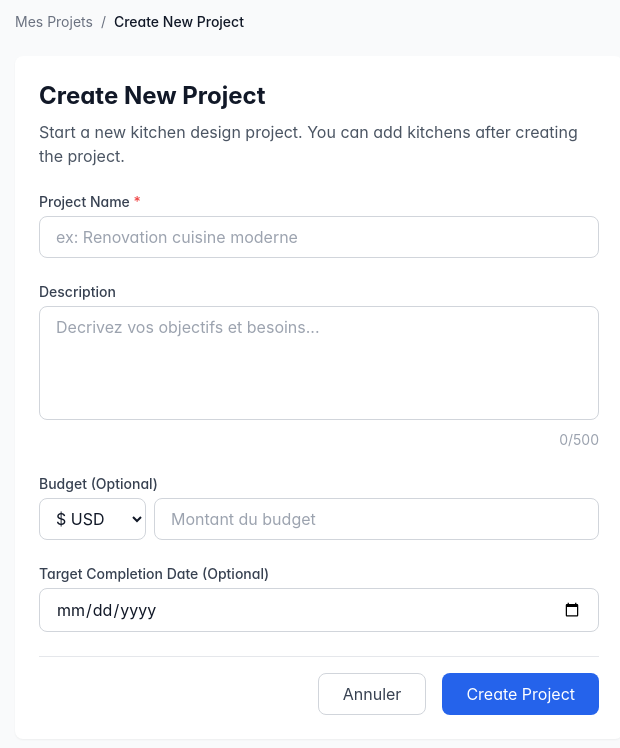
Scenario: CreateProject › Form Validation › should show error when name is too short
Type "AB" into the field labelled "Project Name *".
click(319, 237); type("AB")  # box [39, 216, 599, 258]
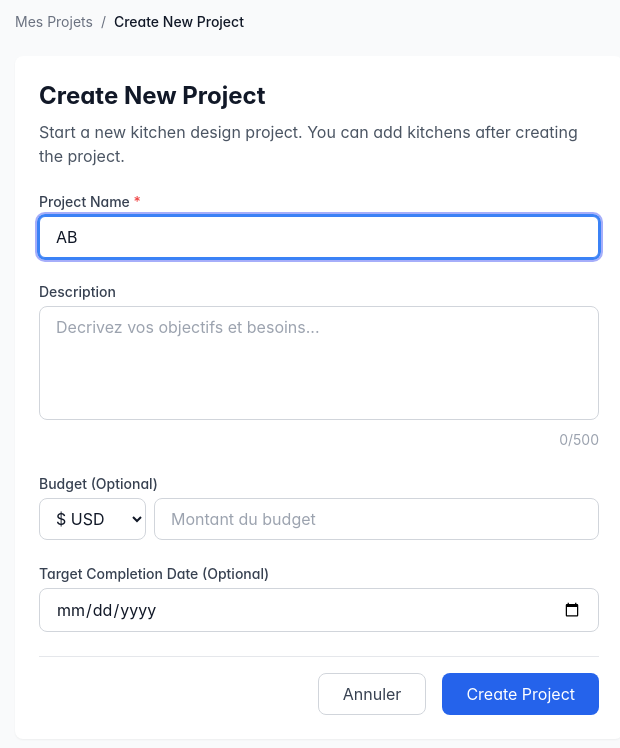
Click the button "Create Project".
click(521, 694)  # box [442, 673, 599, 715]
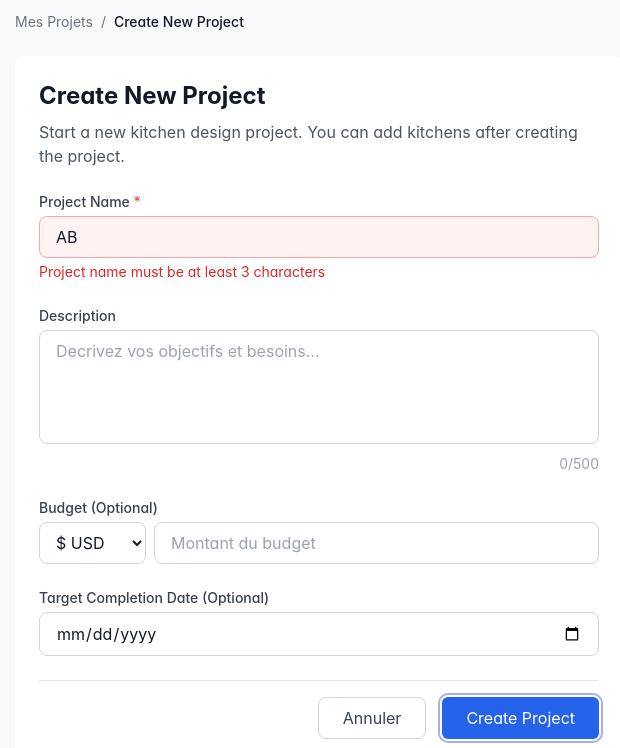
Expected: the text "Project name must be at least 3 characters" is shown, [39, 263, 325, 280]
